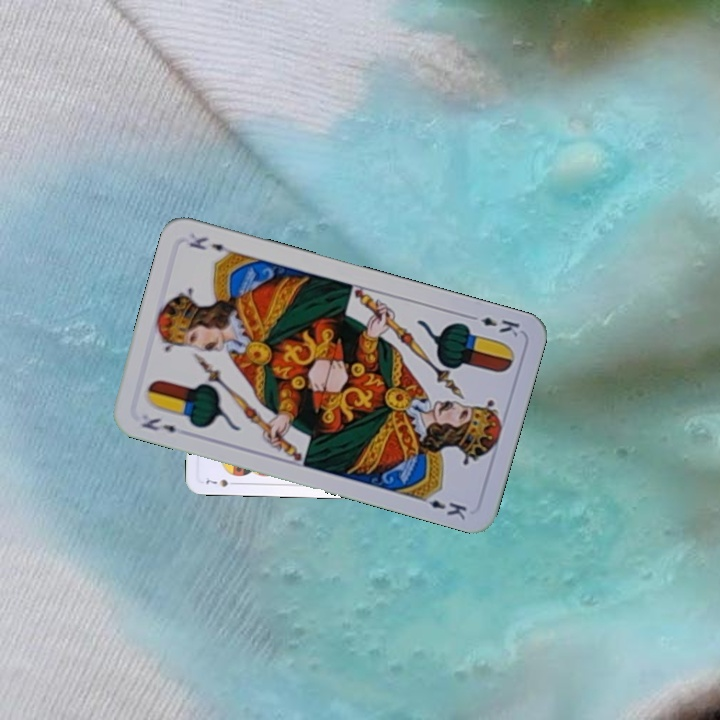EK: (464, 310, 522, 339), (137, 413, 178, 435)
S7: (200, 475, 240, 490)
